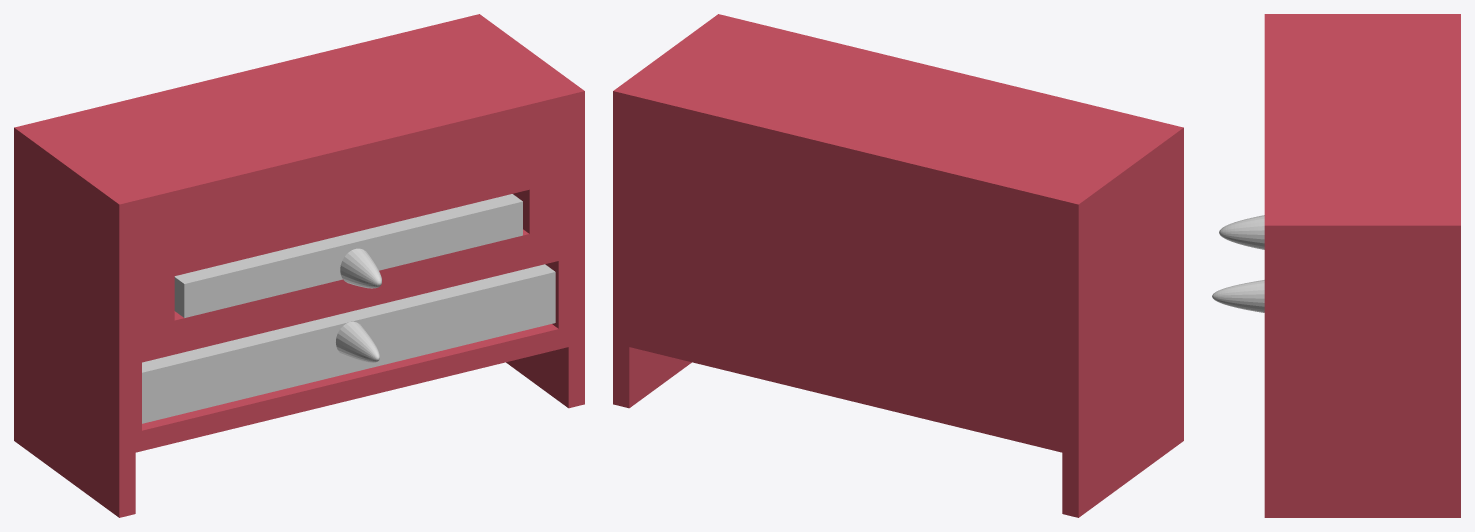
File: Side Table.glb
3 views of the same model, side by side, from view 1: azimuth 30°, elevation 25°; view 2: azimuth 150°, elevation 25°; view 3: azimuth 270°, elevation 25° (orthographic). The views are drawn at different scales.
Parts seen in each view (by area): view 1: Mesh_Mesh_head_geo.001_lambert2SG.001; view 2: Mesh_Mesh_head_geo.001_lambert2SG.001; view 3: Mesh_Mesh_head_geo.001_lambert2SG.001.
Boxes of the visible parts, x1=… form: Mesh_Mesh_head_geo.001_lambert2SG.001: x1=14, y1=14, x2=584, y2=517; Mesh_Mesh_head_geo.001_lambert2SG.001: x1=613, y1=14, x2=1183, y2=517; Mesh_Mesh_head_geo.001_lambert2SG.001: x1=1212, y1=14, x2=1460, y2=517.
Bounding box in the file's own units: 143 × 92 × 71.
